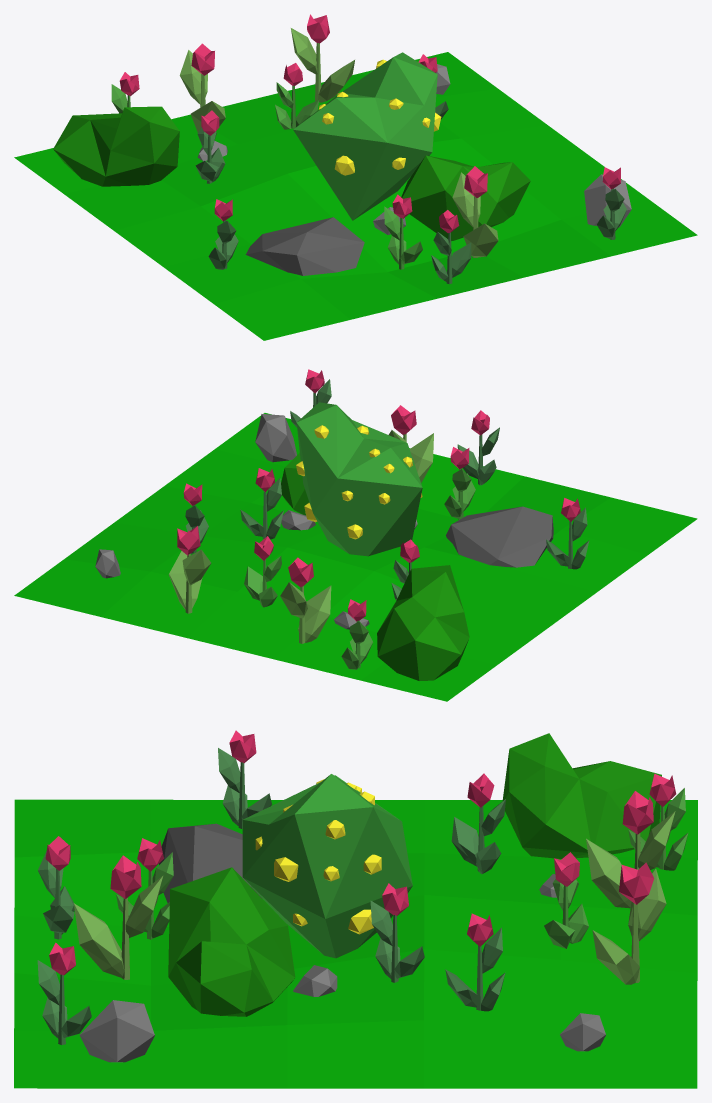
Rendered from field_flowers.fbx.
3 views of the same model, one above another, from view 1: azimuth 30°, elevation 25°; view 2: azimuth 150°, elevation 25°; view 3: azimuth 270°, elevation 25° (orthographic). The views are drawn at different scales.
Parts seen in each view (by area): view 1: Plane; view 2: Plane; view 3: Plane.
Part boxes in pixels (x1,y1,x2,y2): Plane: (14,14,697,340); Plane: (14,369,697,701); Plane: (14,730,697,1088).
Bounding box in the file's own units: 400 × 145 × 400.
